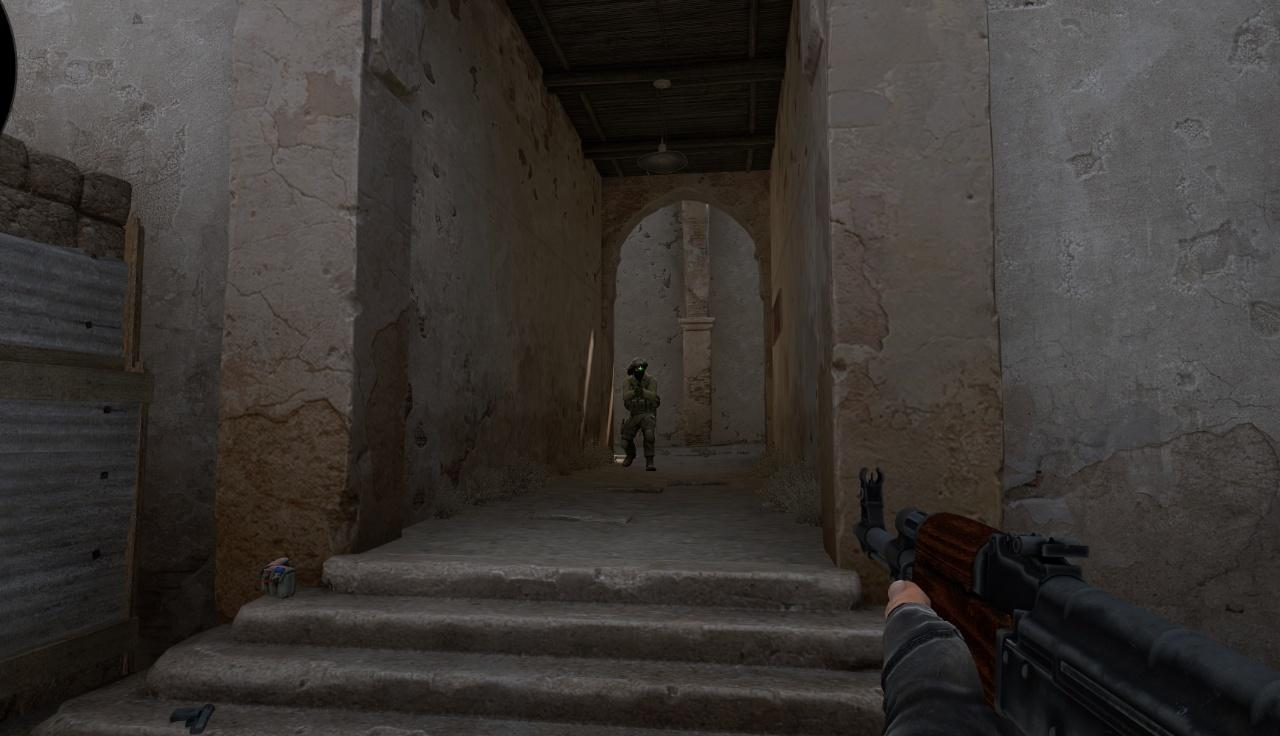ct: (621, 358, 658, 471)
cthead: (631, 358, 645, 377)
rifle: (855, 467, 1280, 736)
